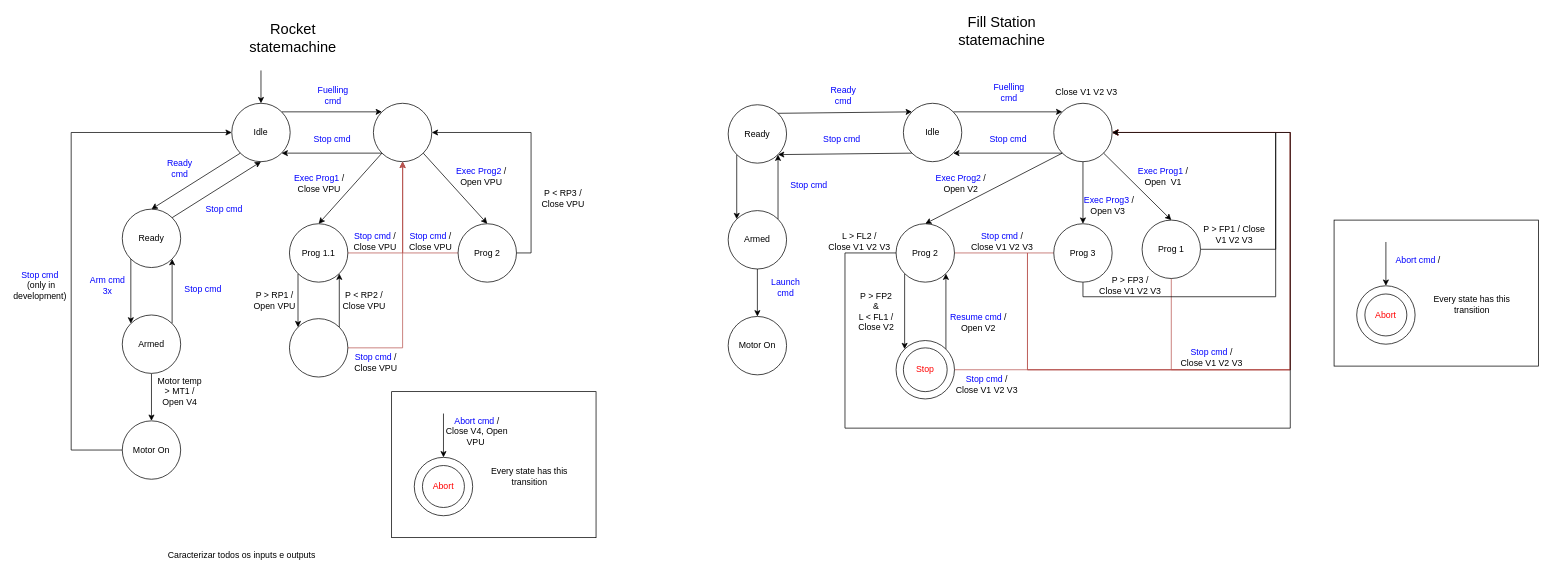
The diagram is 1551 pixels wide and 579 high, and some of its shapes have lost their labels. Here are the shapes that lost their labels. From the top down, the centre of each, then its label:
the point at 402,132: fuelling start
the point at 1082,132: fueling start
the point at 318,347: Prog 1.2
